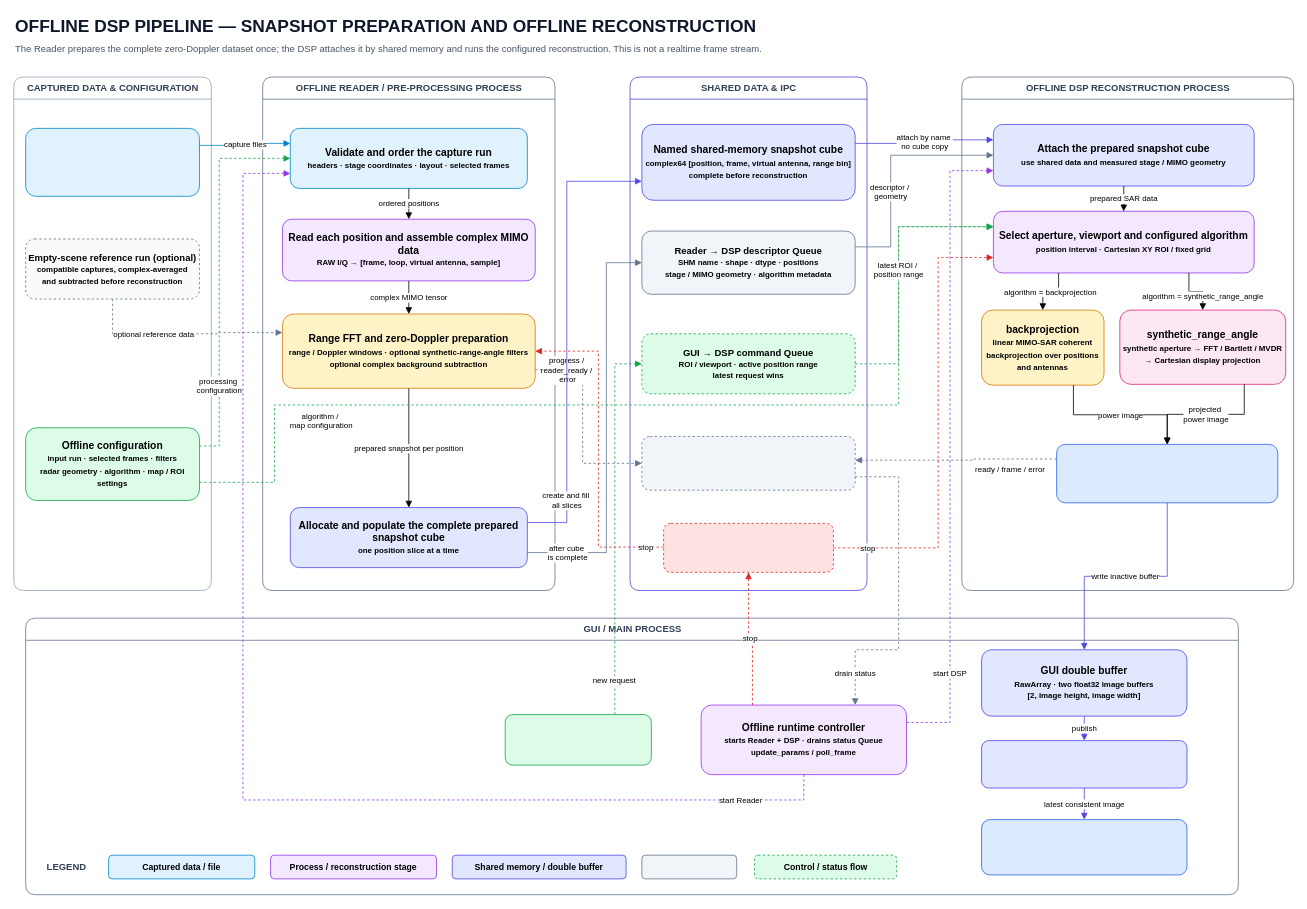
This 1307x909 diagram has some shape labels left out. Here are the shapes that lost their labels. From the top down, the centre of each, then its label:
(112,162): Target SAR capture run capture_pos*.bin header metadata + ADC RAW int16 I/Q
(748,463): Reader / DSP → GUI status Queue progress · ready · frame · error metadata
(1167,473): Offline SAR image float32 [image height, image width] power → dB map
(748,547): Shared stop Event main process requests graceful worker shutdown
(577,739): Apply ROI / position range request a new reconstruction
(1084,764): Publish atomically latest buffer index + sequence + lock
(689,866): IPC Queue
(1084,847): Read latest image and render offline heatmap / dB display
